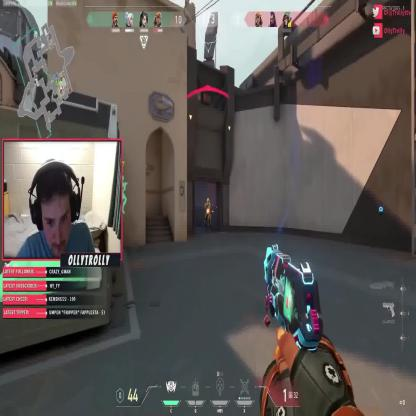enemy: (204, 198, 212, 232)
enemy_head: (207, 198, 210, 205)
